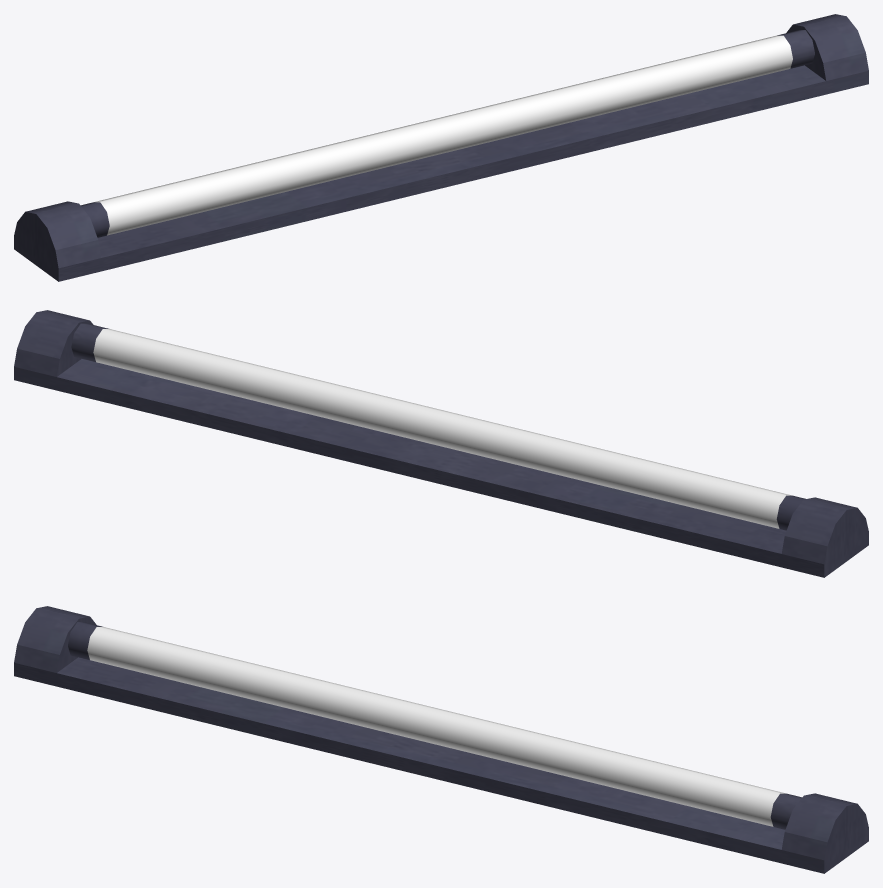
The model's file is light2.FBX.
3 views of the same model, one above another, from view 1: azimuth 30°, elevation 25°; view 2: azimuth 150°, elevation 25°; view 3: azimuth 330°, elevation 25° (orthographic).
Parts seen in each view (by area): view 1: light2; view 2: light2; view 3: light2.
Part boxes in pixels (bbox=[...]): light2: bbox=[14, 14, 868, 281]; light2: bbox=[14, 310, 868, 577]; light2: bbox=[14, 606, 868, 873].
Bounding box in the file's own units: 6.29 × 0.3829 × 0.6.
